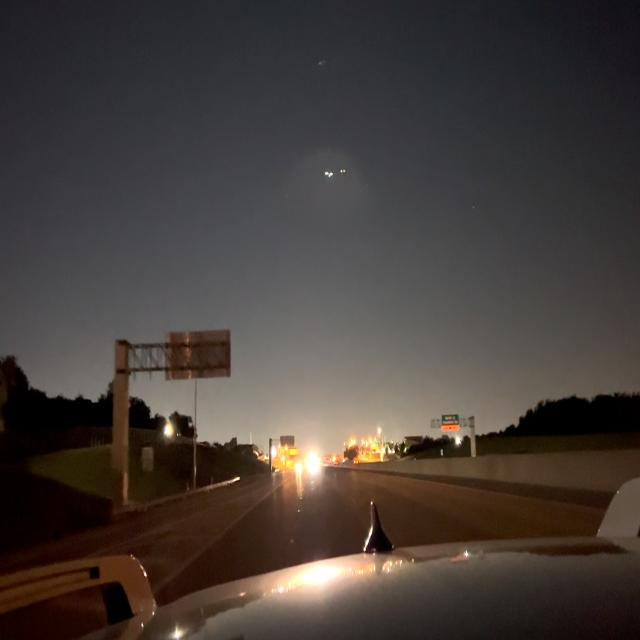back-of-sign: (165, 332, 231, 378), (141, 448, 153, 470)
